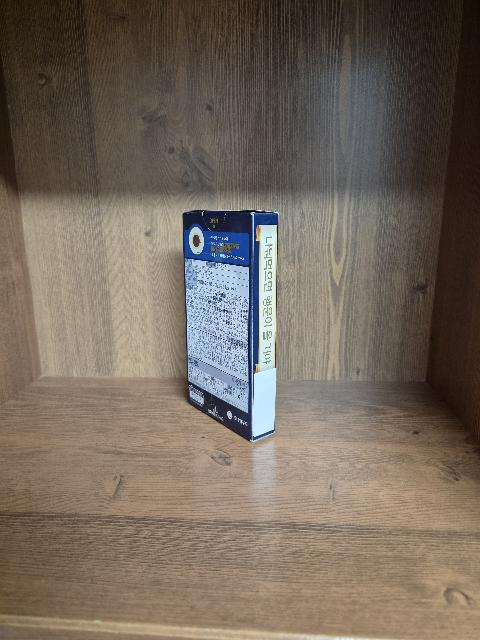pepero: (182, 209, 279, 442)
